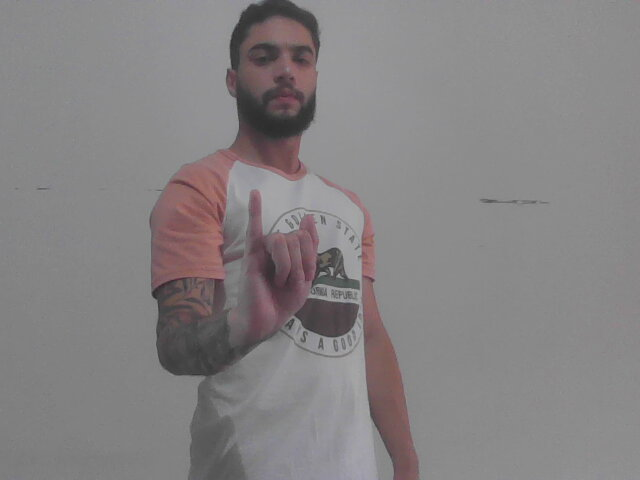i: (237, 185, 323, 344)
